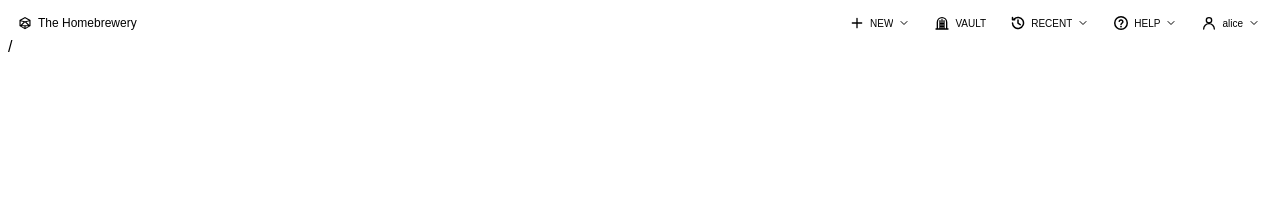
Navbar › a sign-out whose session had already ended still signs out, without a prompt
Click the button with aria-label "Account: alice". click: point(1231, 23)
box: [1189,8,1272,38]
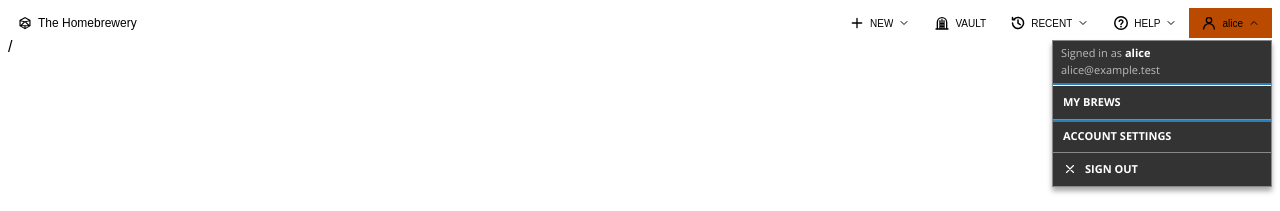
Click the button "Sign out". click: point(1162, 169)
box: [1053,152,1271,186]
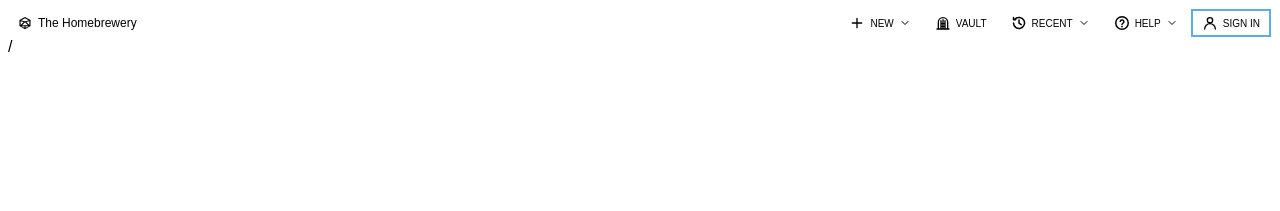
Check: the link "Sign in" is shown, box [1202,15,1260,31]
